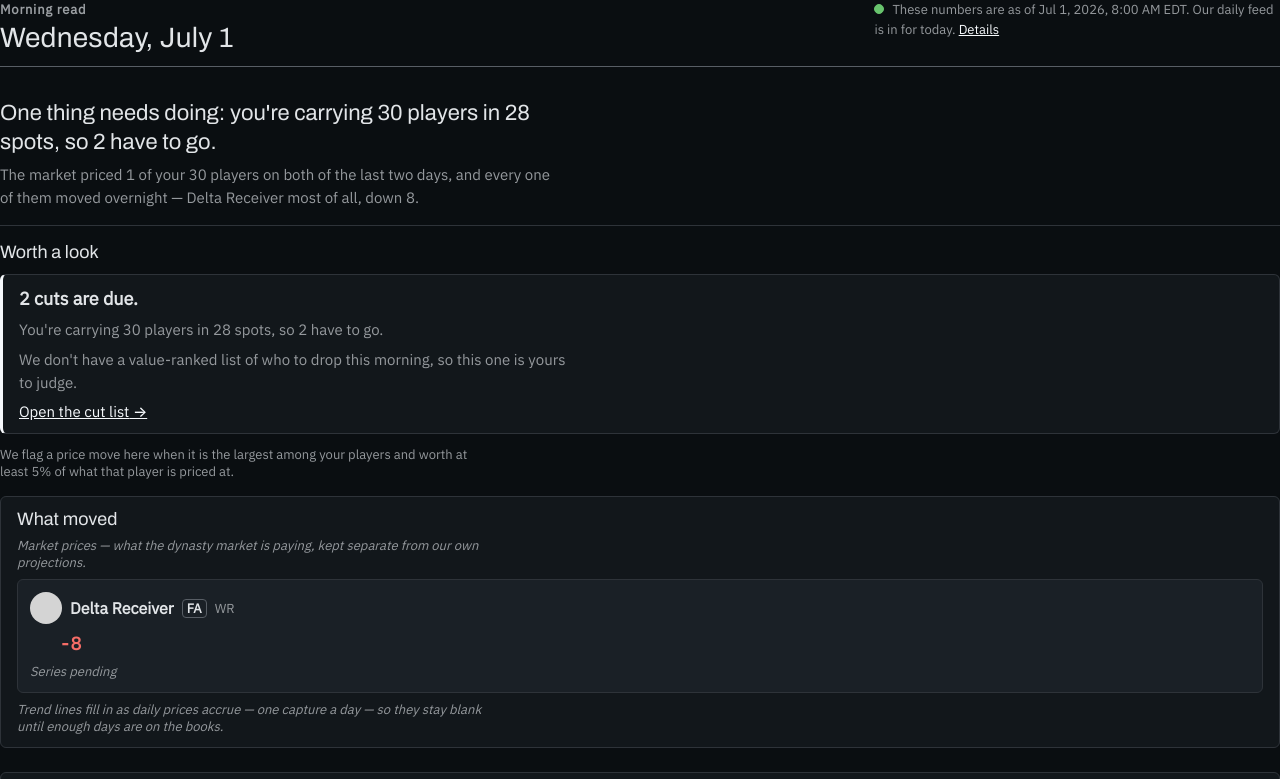
Test: DailyWhatChanged › says how the feeds are doing in one sentence, with the detail one press down
expect the element with test id "wc-freshness" shows "Our daily feed is in for today": met, box top-left (874, 1), bottom-right (1274, 38)
Click the button with test id "wc-health-sheet-toggle": {"x": 979, "y": 29} top-left (959, 20), bottom-right (999, 39)
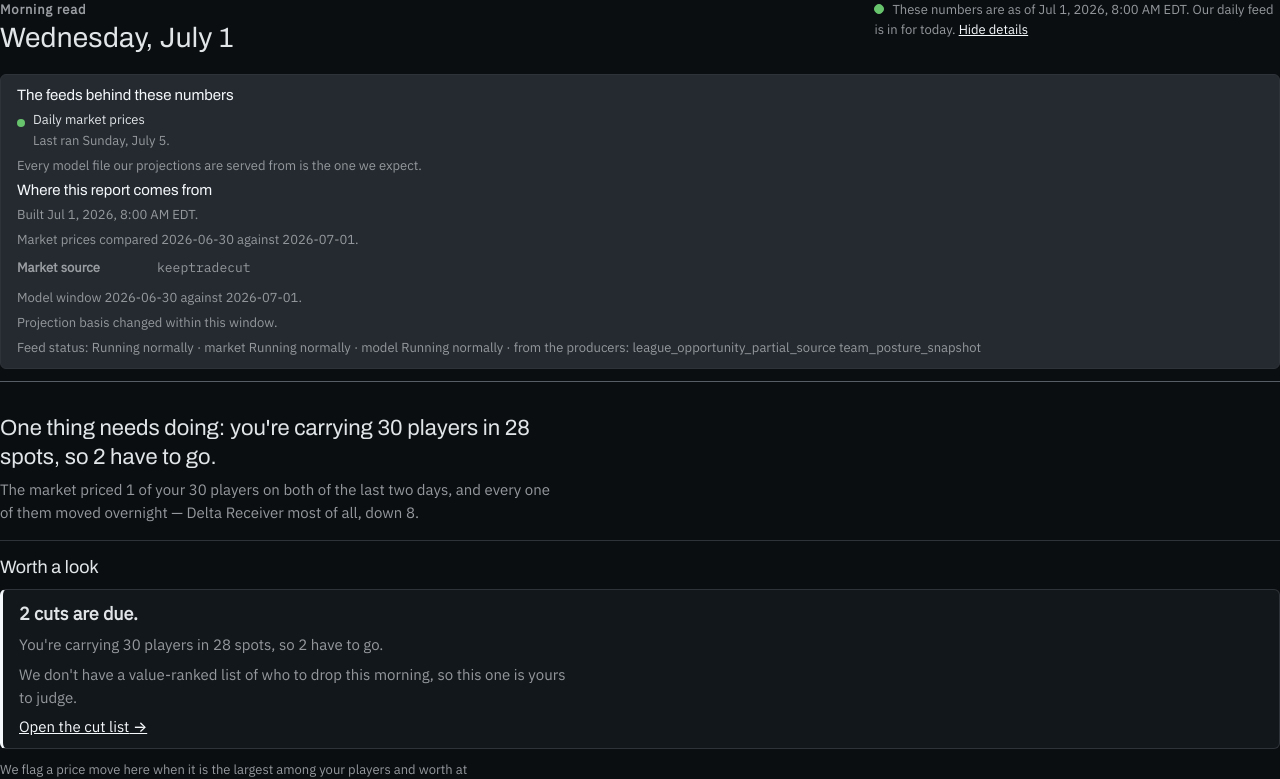
expect the text "Daily market prices" is shown: met, box top-left (33, 111), bottom-right (145, 128)
expect the text "Last ran Sunday, July 5." is shown: met, box top-left (33, 132), bottom-right (170, 149)
expect the text "Every model file our projections are served from" is shown: met, box top-left (17, 157), bottom-right (422, 174)
